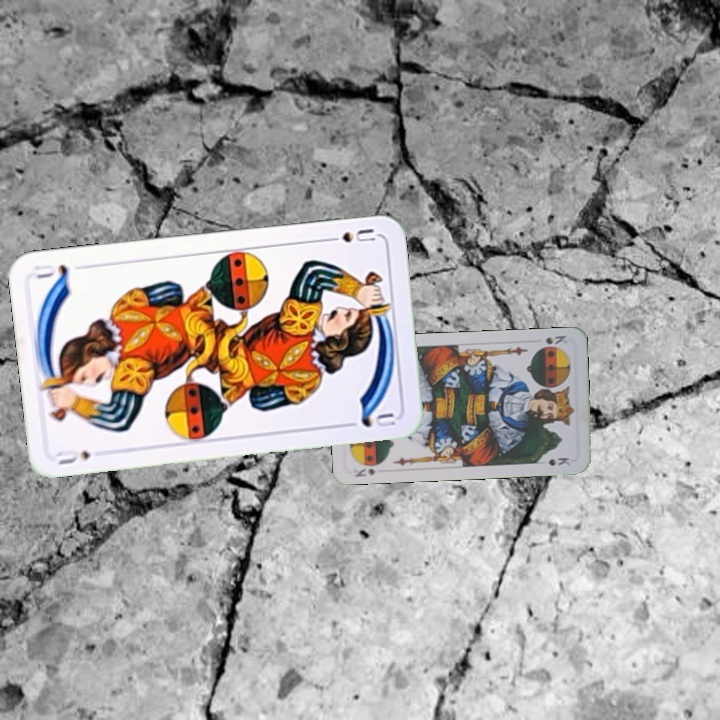SK: (350, 459, 385, 479), (541, 331, 570, 347)
SU: (320, 224, 378, 245), (53, 445, 93, 468)
